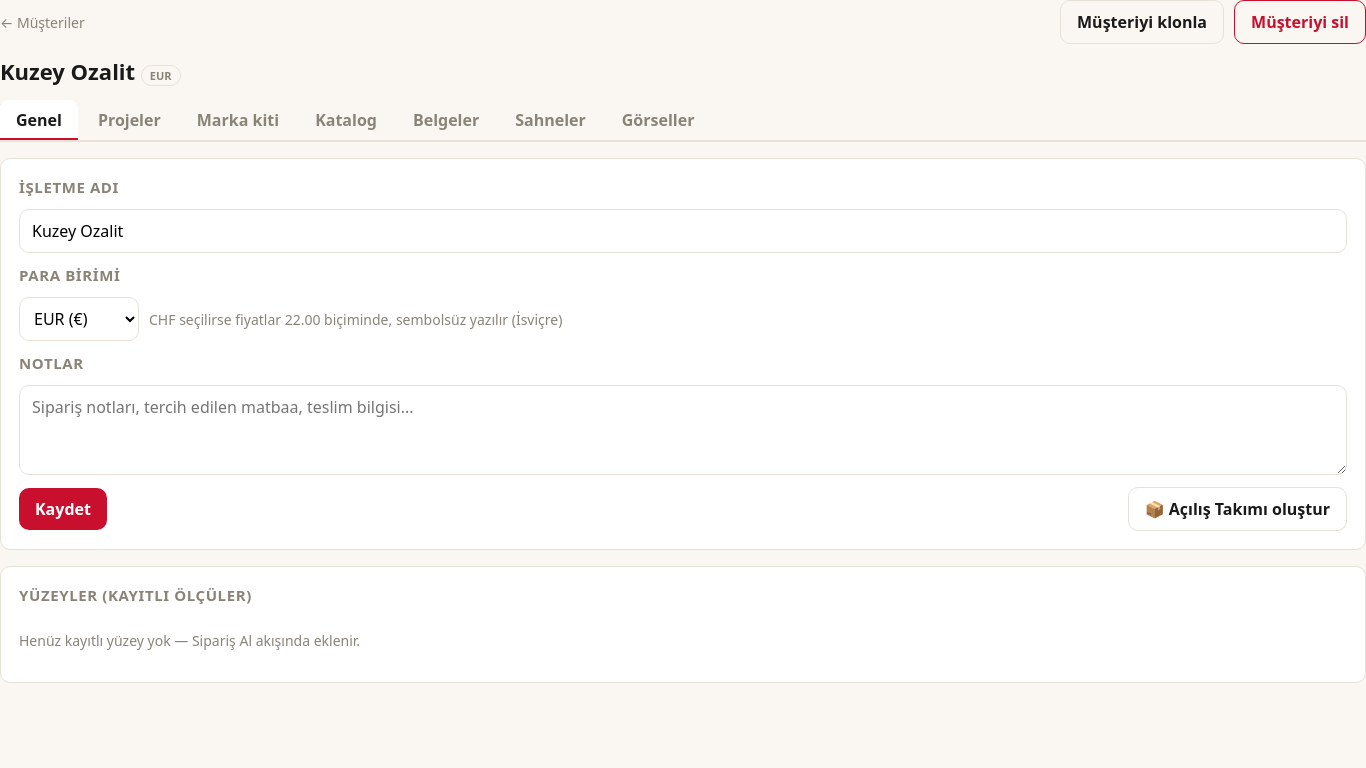
Test: GERÇEK VAZGEÇME — yaranın kendisi › VAZGEÇ hiçbir şey klonlamaz — 'belgesiz klonla' DEMEZ
Click the button "Müşteriyi klonla": (1142, 22) [1060,0,1224,44]
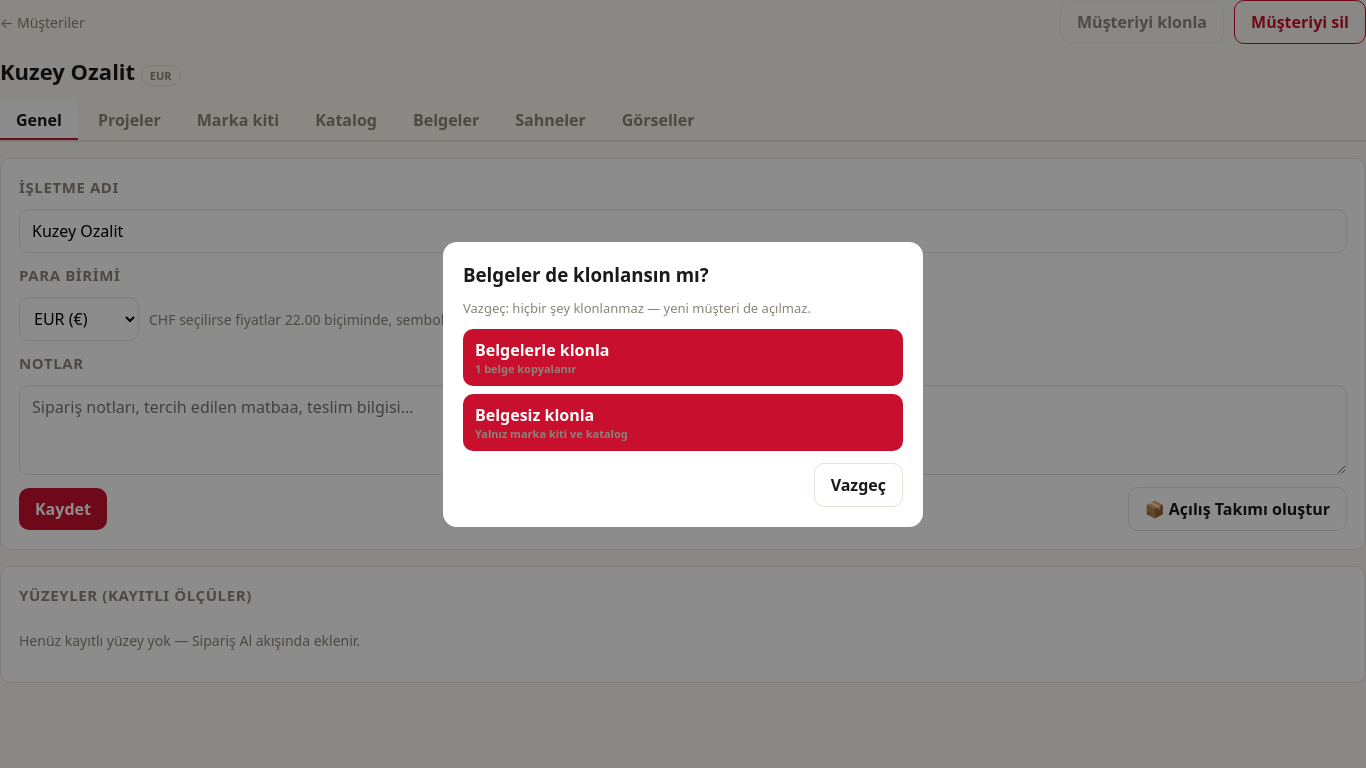
Click the button "Vazgeç": (858, 484) [814,462,903,506]
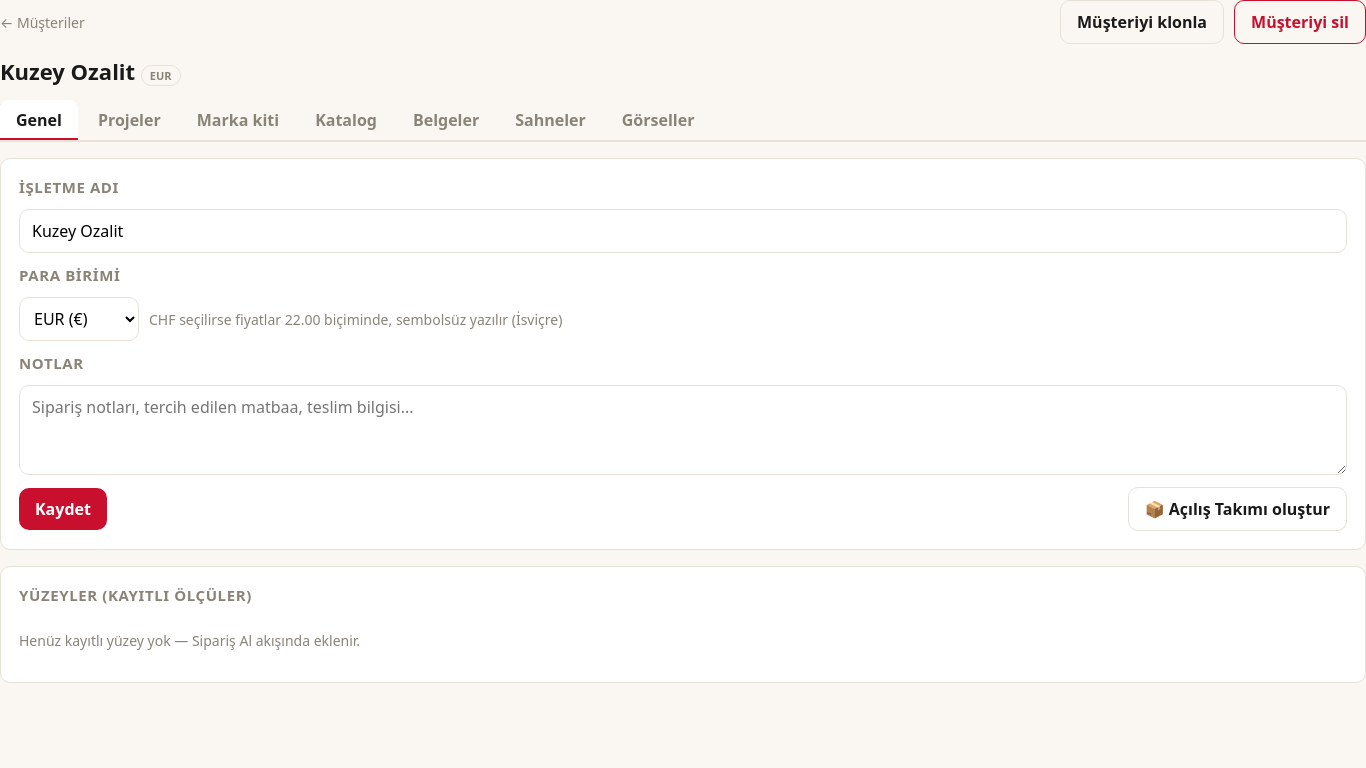
Expected: the text "Vazgeç" is gone
